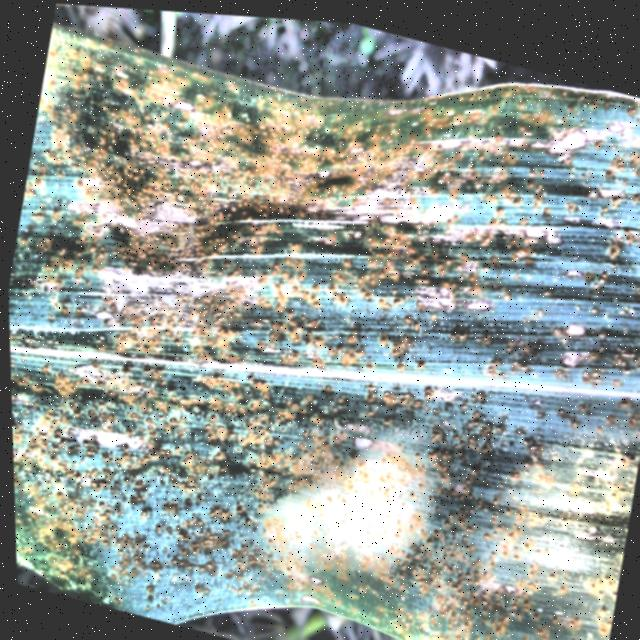common_rust: (2, 63, 640, 640)
